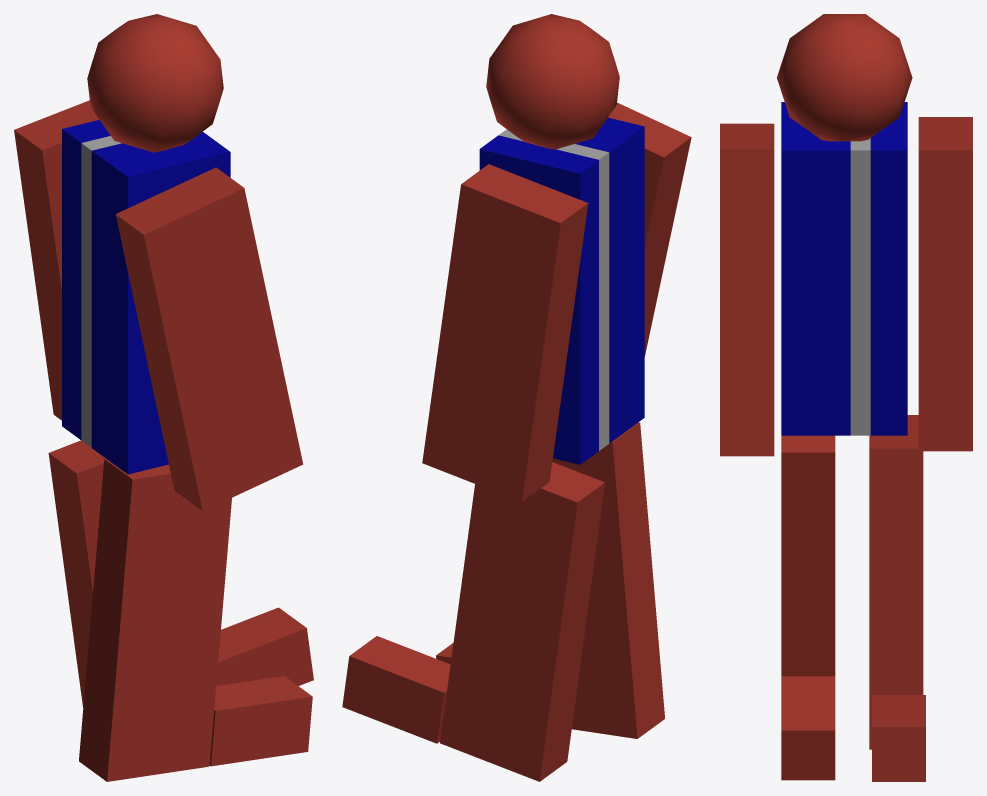
File: player_000044.obj
3 views of the same model, side by side, from view 1: azimuth 30°, elevation 25°; view 2: azimuth 150°, elevation 25°; view 3: azimuth 270°, elevation 25° (orthographic). The views are drawn at different scales.
Visible parts, largest first — view 1: Cube.005, Cube.001, Cube, Icosphere, Cube.006, Cube.002, Cube.003, Cube.004; view 2: Cube.006, Cube.002, Cube, Cube.001, Icosphere, Cube.004, Cube.005; view 3: Cube, Cube.006, Cube.005, Cube.002, Icosphere, Cube.001, Cube.003, Cube.004.
Boxes of the visible parts, bbox=[...] form: Cube.005: bbox=[115, 167, 303, 511]; Cube.001: bbox=[79, 458, 231, 781]; Cube: bbox=[62, 120, 230, 474]; Icosphere: bbox=[87, 14, 223, 152]; Cube.006: bbox=[14, 100, 99, 420]; Cube.002: bbox=[48, 440, 105, 707]; Cube.003: bbox=[209, 676, 312, 766]; Cube.004: bbox=[216, 607, 313, 685]; Cube.006: bbox=[422, 164, 588, 501]; Cube.002: bbox=[440, 462, 604, 781]; Cube: bbox=[479, 117, 644, 464]; Cube.001: bbox=[552, 422, 664, 738]; Icosphere: bbox=[486, 14, 619, 149]; Cube.004: bbox=[342, 636, 450, 743]; Cube.005: bbox=[608, 102, 691, 356]; Cube: bbox=[781, 102, 907, 435]; Cube.006: bbox=[918, 117, 972, 451]; Cube.005: bbox=[720, 123, 774, 456]; Cube.002: bbox=[869, 415, 923, 749]; Icosphere: bbox=[777, 14, 912, 141]; Cube.001: bbox=[781, 435, 835, 676]; Cube.003: bbox=[781, 676, 835, 780]; Cube.004: bbox=[872, 695, 925, 781].
Size of the model in its own units: 1.02 by 2.84 by 0.9137.
